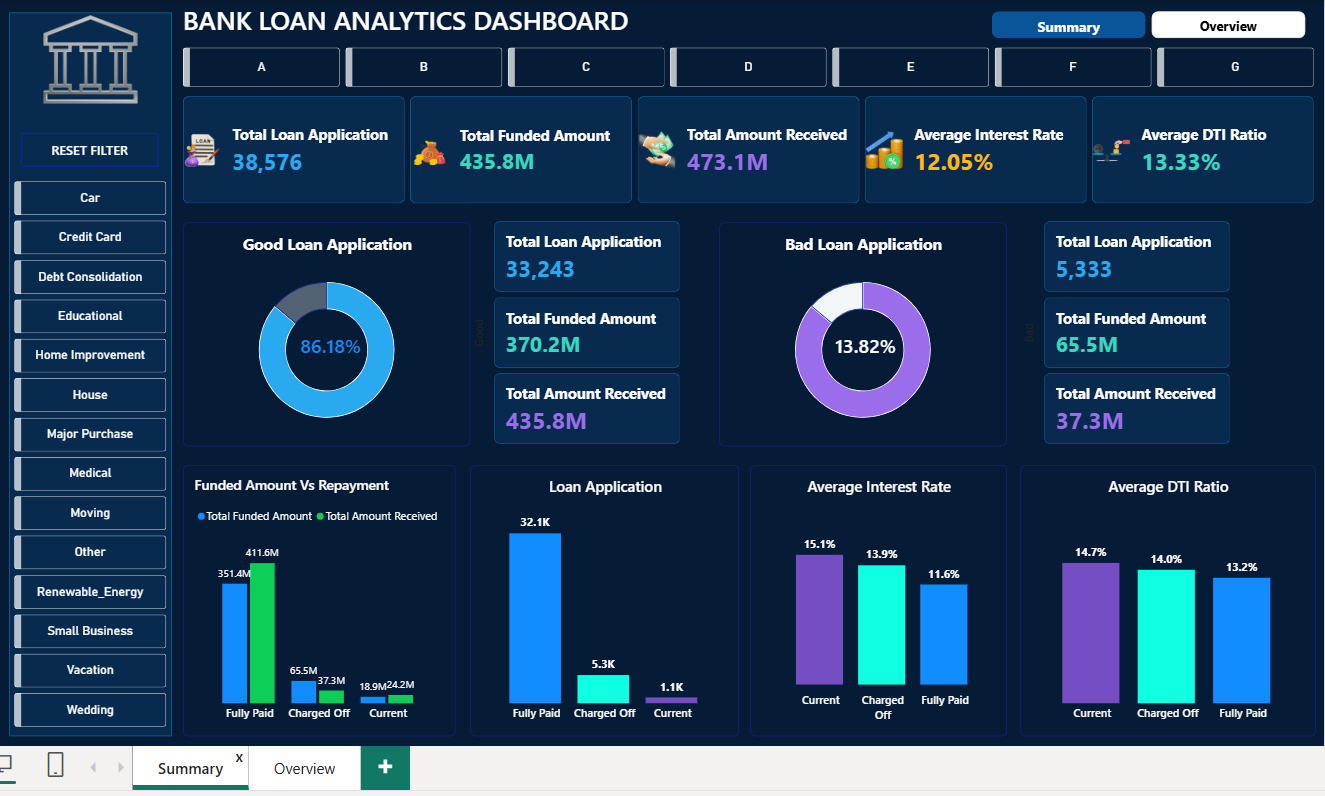

The dashboard page shown, as its layout file describes it:
{"tool":"powerbi","page":{"name":"Summary","canvas":[1920,1080],"ordinal":0},"visuals":[{"type":"textbox","box":[267.8,3.6,776.3,52.5],"z":0},{"type":"shape","box":[16.3,18.1,235.3,1047.8],"z":1},{"type":"image","box":[23.5,18.1,220.8,135.7],"z":2},{"type":"cardVisual","fields":{"Data":["financial_loan.Total Loan Application","financial_loan.Total Funded Amount","financial_loan.Total Amount Received","financial_loan.Average Interest Rate","financial_loan.Average DTI Ratio"]},"box":[267.6,140,1639.6,155.6],"z":4},{"type":"pageNavigator","box":[1438.7,16.3,454.2,39.8],"z":5},{"type":"donutChart","title":"Good Loan Application","fields":{"Category":["financial_loan.Good_vs_Bad_Loan"],"Y":["financial_loan.Total Loan Application"]},"box":[267.8,322.1,416.2,323.9],"z":6},{"type":"donutChart","title":"Bad Loan Application","fields":{"Category":["financial_loan.Good_vs_Bad_Loan"],"Y":["financial_loan.Total Loan Application"]},"box":[1044.2,322.1,416.2,323.9],"z":7},{"type":"cardVisual","fields":{"Data":["financial_loan.Good Loan %"]},"box":[421.7,456,135.7,86.9],"z":8},{"type":"cardVisual","fields":{"Data":["financial_loan.Bad Loan %"]},"box":[1196.2,456,135.7,86.9],"z":9},{"type":"cardVisual","fields":{"Data":["financial_loan.Total Loan Application","financial_loan.Total Funded Amount","financial_loan.Total Amount Received"],"Rows":["financial_loan.Good_vs_Bad_Loan"]},"box":[683.4,321.1,302.6,323.2],"z":10},{"type":"cardVisual","fields":{"Data":["financial_loan.Total Loan Application","financial_loan.Total Funded Amount","financial_loan.Total Amount Received"],"Rows":["financial_loan.Good_vs_Bad_Loan"]},"box":[1479.9,321.1,302.6,323.2],"z":11},{"type":"clusteredColumnChart","title":"Funded Amount Vs Repayment ","fields":{"Category":["financial_loan.LOAN_STATUS"],"Y":["financial_loan.Total Funded Amount","financial_loan.Total Amount Received"]},"box":[267.8,673.2,394.5,392.7],"z":12},{"type":"clusteredColumnChart","title":"Loan Application ","fields":{"Category":["financial_loan.LOAN_STATUS"],"Y":["financial_loan.Total Loan Application"]},"box":[684.1,673.2,389.1,392.7],"z":13},{"type":"clusteredColumnChart","title":"Average Interest Rate","fields":{"Category":["financial_loan.LOAN_STATUS"],"Y":["financial_loan.Average Interest Rate"]},"box":[1089.4,673.2,371,392.7],"z":14},{"type":"clusteredColumnChart","title":"Average DTI Ratio","fields":{"Category":["financial_loan.LOAN_STATUS"],"Y":["financial_loan.Average DTI Ratio"]},"box":[1480.3,673.2,427.1,392.7],"z":15},{"type":"advancedSlicerVisual","fields":{"Values":["financial_loan.PURPOSE"]},"box":[23.5,262.4,220.8,790.8],"z":16},{"type":"advancedSlicerVisual","fields":{"Values":["financial_loan.GRADE"]},"box":[267.8,68.8,1639.6,57.9],"z":17},{"type":"actionButton","box":[32.6,191.8,200,50],"z":18}]}

Visuals, with their boxes on the page's 1920x1080 design canvas (x1, y1, x2, y2). These are canvas units, not pixel positions in the 1325x796 screenshot, which may show the page scaled, cropped or inside an application window:
textbox: [left=268, top=4, right=1044, bottom=56]
shape: [left=16, top=18, right=252, bottom=1066]
image: [left=24, top=18, right=244, bottom=154]
cardVisual - financial_loan.Total Loan Application x financial_loan.Total Funded Amount: [left=268, top=140, right=1907, bottom=296]
pageNavigator: [left=1439, top=16, right=1893, bottom=56]
"Good Loan Application" donutChart: [left=268, top=322, right=684, bottom=646]
"Bad Loan Application" donutChart: [left=1044, top=322, right=1460, bottom=646]
cardVisual - financial_loan.Good Loan %: [left=422, top=456, right=557, bottom=543]
cardVisual - financial_loan.Bad Loan %: [left=1196, top=456, right=1332, bottom=543]
cardVisual - financial_loan.Total Loan Application x financial_loan.Total Funded Amount: [left=683, top=321, right=986, bottom=644]
cardVisual - financial_loan.Total Loan Application x financial_loan.Total Funded Amount: [left=1480, top=321, right=1782, bottom=644]
"Funded Amount Vs Repayment " clusteredColumnChart: [left=268, top=673, right=662, bottom=1066]
"Loan Application " clusteredColumnChart: [left=684, top=673, right=1073, bottom=1066]
"Average Interest Rate" clusteredColumnChart: [left=1089, top=673, right=1460, bottom=1066]
"Average DTI Ratio" clusteredColumnChart: [left=1480, top=673, right=1907, bottom=1066]
advancedSlicerVisual - financial_loan.PURPOSE: [left=24, top=262, right=244, bottom=1053]
advancedSlicerVisual - financial_loan.GRADE: [left=268, top=69, right=1907, bottom=127]
actionButton: [left=33, top=192, right=233, bottom=242]
